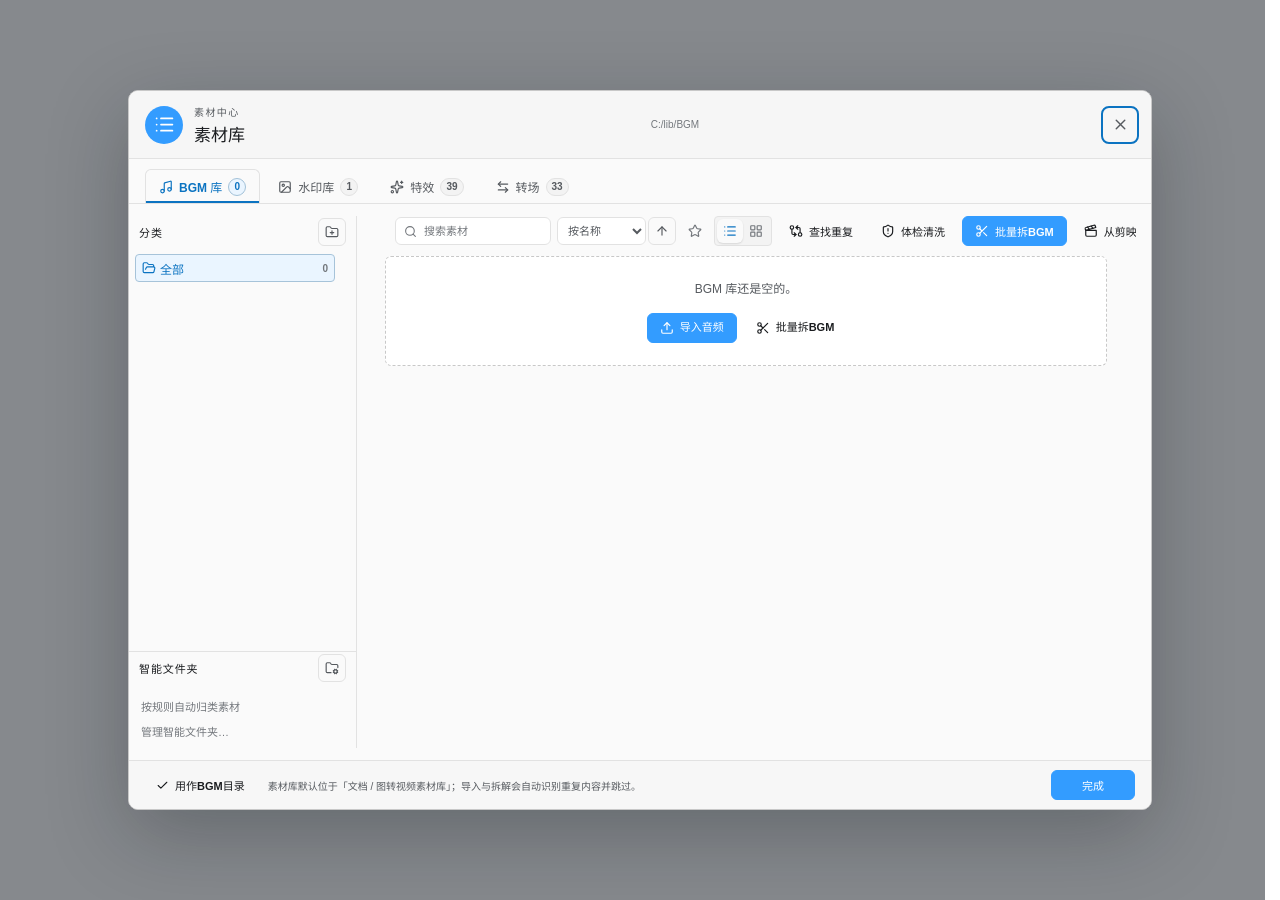
Test case: 删除确认与图片预览 › 删除素材需确认，确认后才移入回收站
The image size is (1280, 900).
Step 1. Click the tab "水印库 1" → (318, 186), box [264,169,372,203]
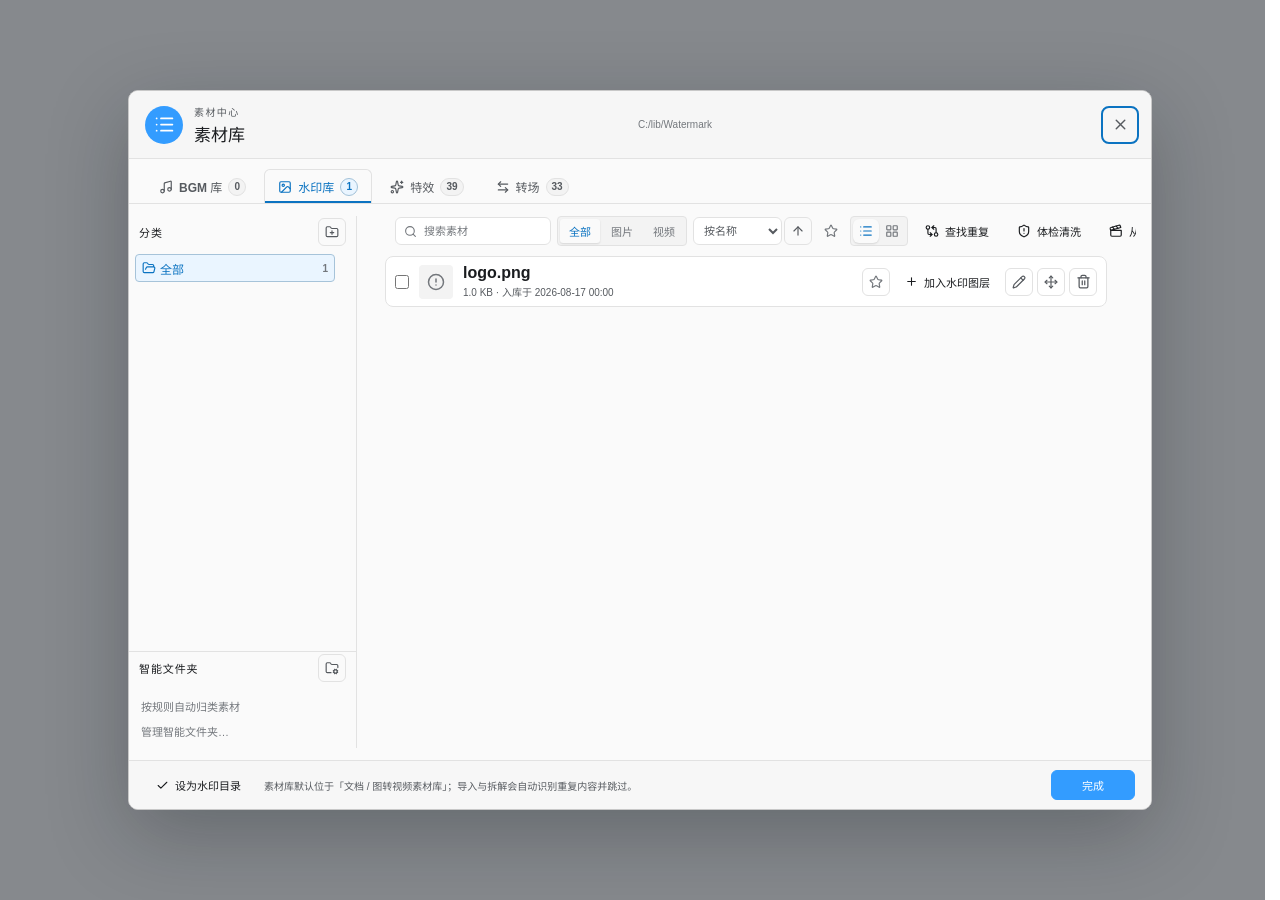
Expected: the button named "删除 logo.png" is shown
Step 2. Click the button named "删除 logo.png" → (1083, 282), box [1069,268,1097,296]
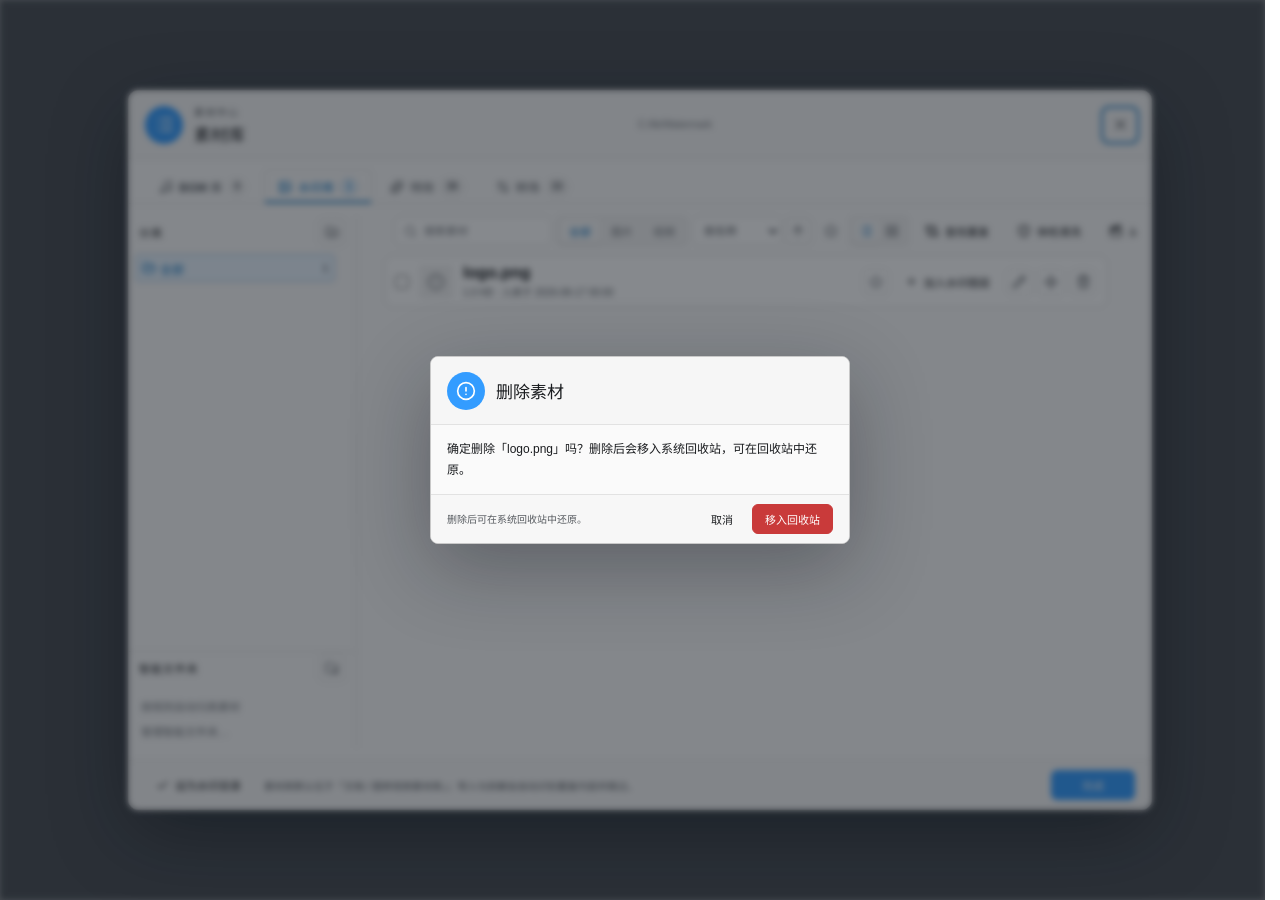
Expected: the dialog with class "library-confirm-dialog" is shown, [430,356,850,544]
Expected: the dialog with class "library-confirm-dialog" shows "确定删除「logo.png」", [447,442,817,476]
Expected: the button "移入回收站" is shown
Step 3. Click the button "移入回收站" → (792, 519), box [752,504,833,534]
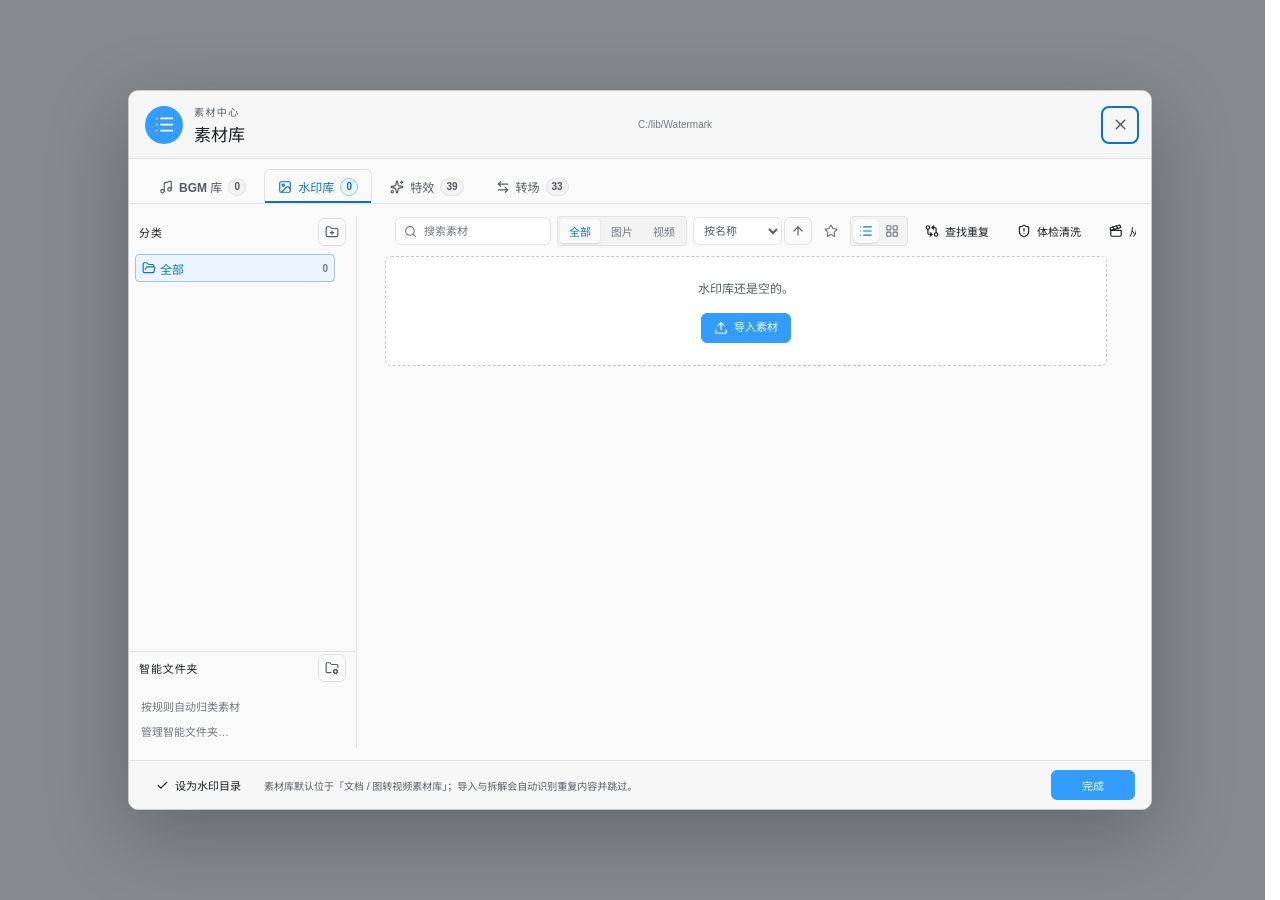
Expected: the dialog with class "library-confirm-dialog" is gone
